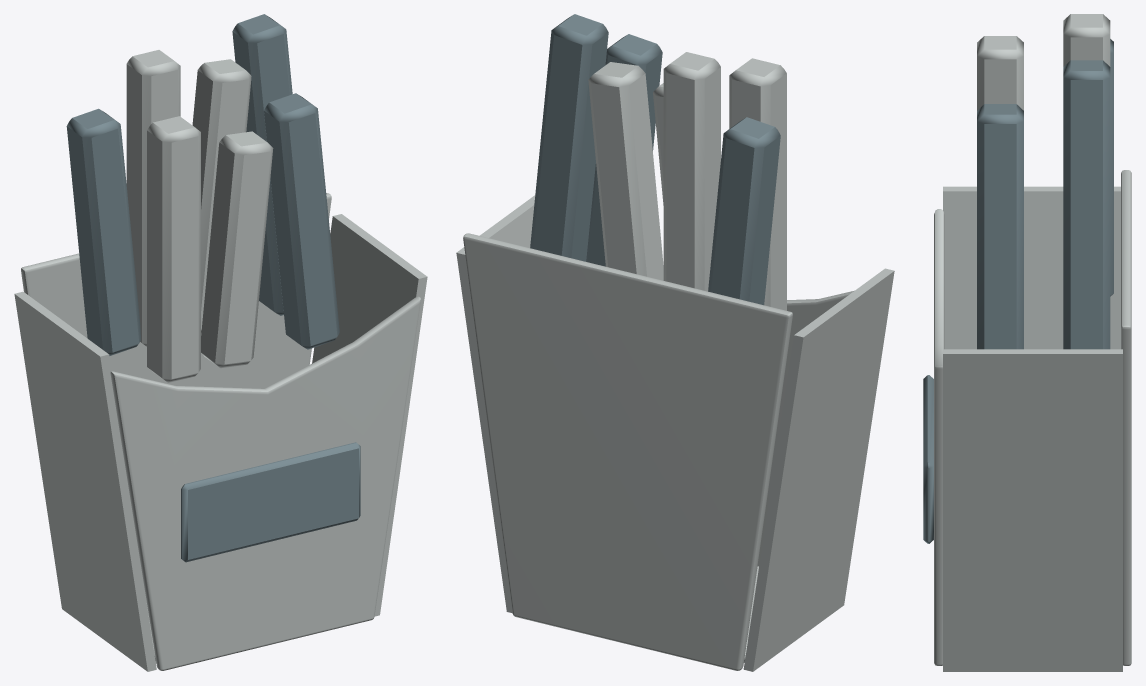
File: fries.glb
3 views of the same model, side by side, from view 1: azimuth 30°, elevation 25°; view 2: azimuth 150°, elevation 25°; view 3: azimuth 270°, elevation 25° (orthographic). The views are drawn at different scales.
Visible parts, largest first — view 1: carton_front, carton_side, carton_band, fry_04, fry_06, fry_00, fry_05, carton_side.001, carton_back, fry_01, fry_03, fry_02; view 2: carton_back, carton_side, fry_03, fry_01, fry_02, fry_00, fry_04, carton_side.001, fry_06, carton_front, fry_05; view 3: carton_side.001, fry_03, carton_side, fry_06, carton_back, carton_front, fry_04, fry_01, carton_band, fry_00.
Part boxes in pixels (box(x1,y1,x2,y2)): carton_front: box(110, 296, 420, 670); carton_side: box(14, 291, 156, 671); carton_band: box(181, 442, 360, 562); fry_04: box(147, 116, 200, 382); fry_06: box(264, 93, 339, 349); fry_00: box(66, 108, 140, 355); fry_05: box(201, 131, 273, 368); carton_side.001: box(312, 214, 427, 616); carton_back: box(21, 193, 331, 388); fry_01: box(126, 50, 180, 346); fry_03: box(232, 14, 292, 315); fry_02: box(192, 59, 251, 332); carton_back: box(463, 233, 792, 670); carton_side: box(743, 268, 894, 671); fry_03: box(530, 14, 608, 261); fry_01: box(663, 52, 720, 291); fry_02: box(588, 62, 663, 280); fry_00: box(708, 117, 780, 305); fry_04: box(729, 58, 786, 310); carton_side.001: box(456, 195, 535, 613); fry_06: box(586, 34, 662, 266); carton_front: box(757, 290, 854, 566); fry_05: box(653, 83, 663, 205); carton_side.001: box(943, 349, 1122, 671); fry_03: box(1063, 60, 1110, 349); carton_side: box(943, 186, 1120, 349); fry_06: box(977, 104, 1023, 349); carton_back: box(1121, 170, 1131, 665); carton_front: box(934, 209, 944, 665); fry_04: box(977, 36, 1023, 110); fry_01: box(1063, 14, 1110, 66); carton_band: box(923, 375, 933, 543); fry_00: box(1110, 39, 1113, 296).
Size of the model in its own units: 0.11 by 0.1782 by 0.058.
